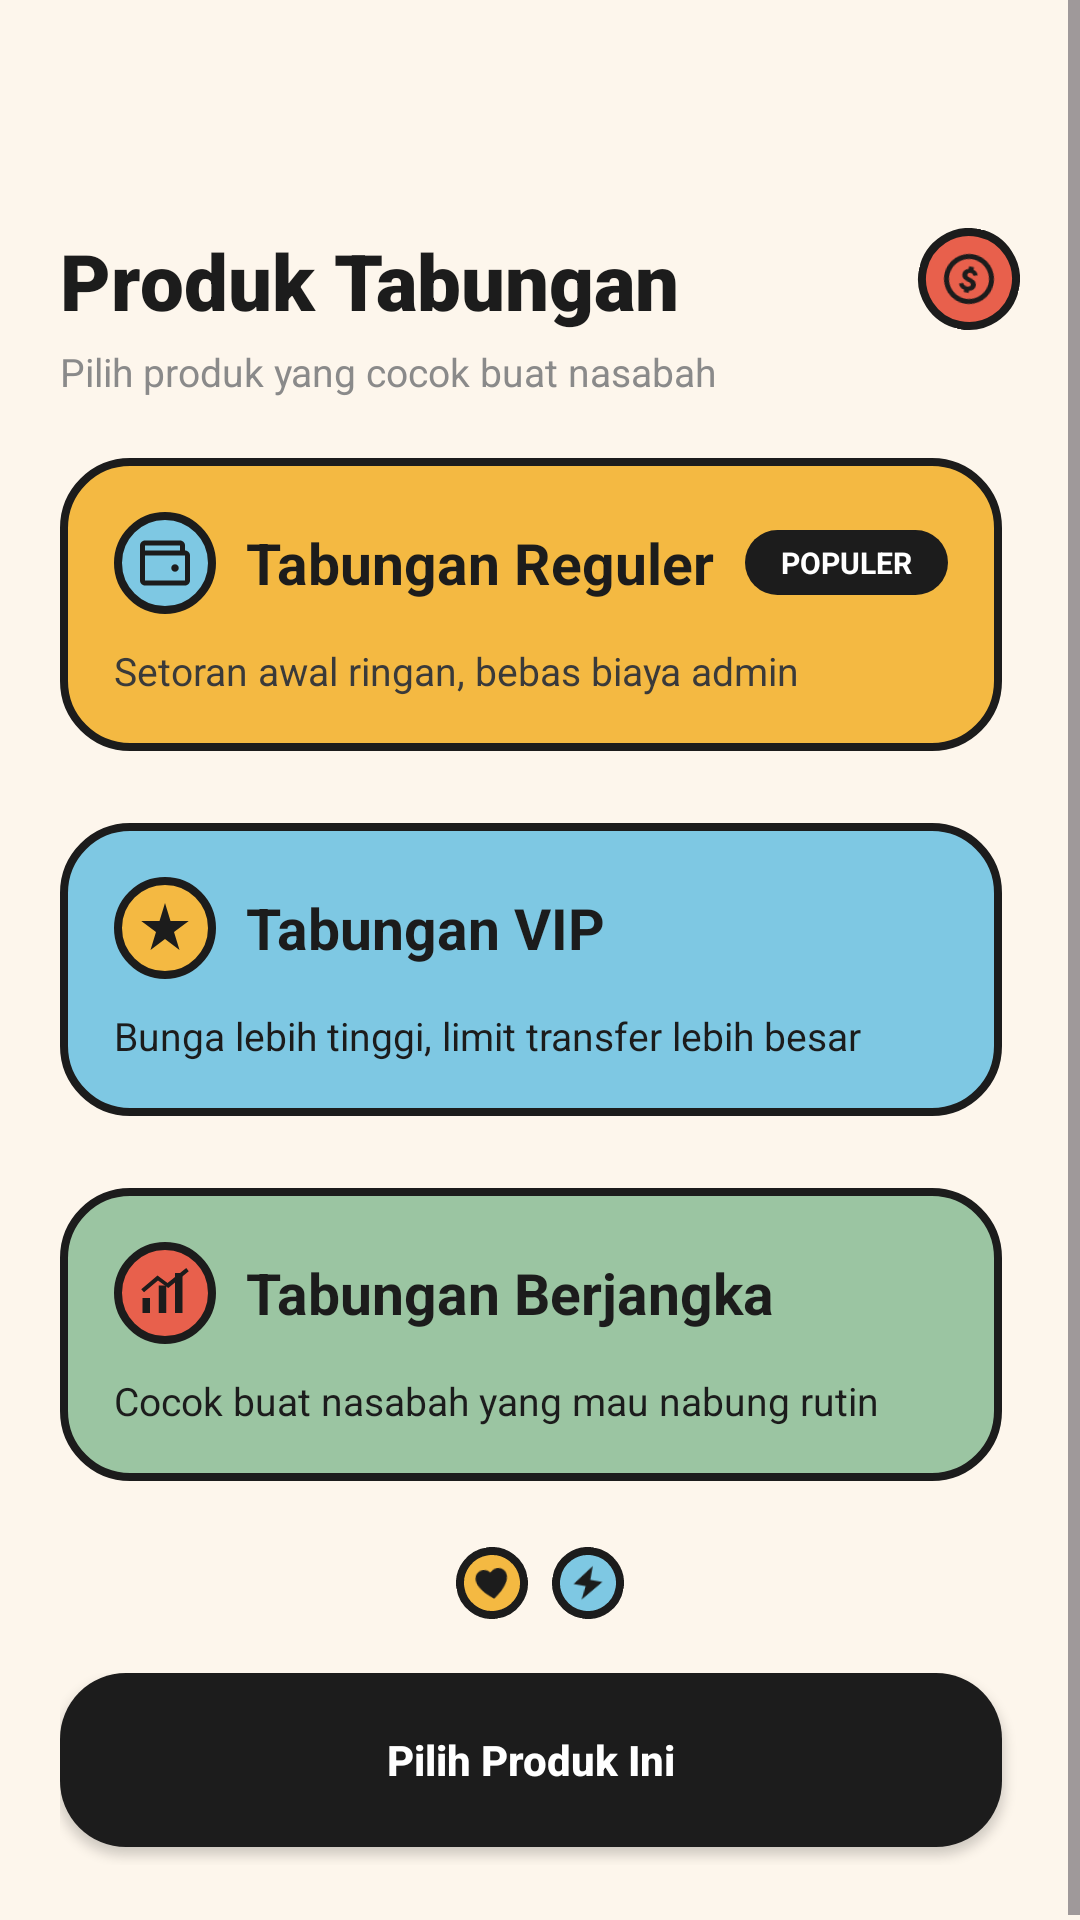

Screen size 1080 x 1920. Icon name, then its center in pixels as (x,y):
chart up: (165,1293)
star: (165,928)
wallet: (165,563)
